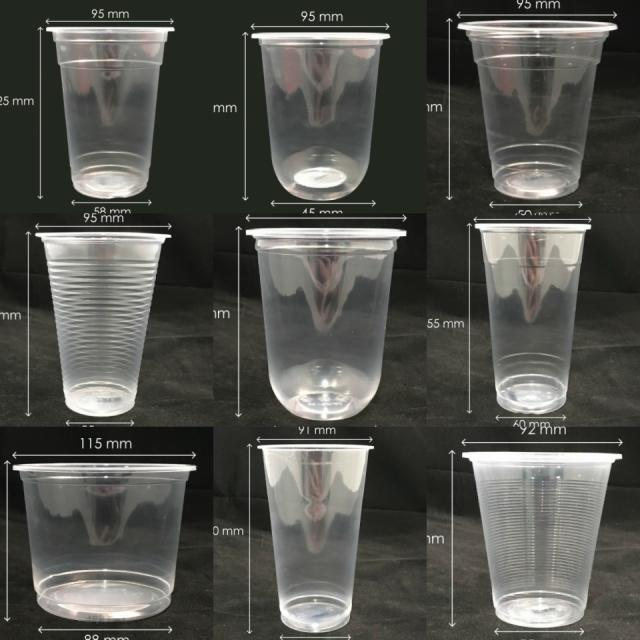Single-Use-Plastic: (246, 229, 405, 420), (15, 464, 195, 622), (458, 20, 616, 199), (462, 452, 621, 627), (36, 232, 169, 416), (252, 32, 389, 200), (476, 224, 590, 413), (48, 28, 172, 199), (260, 445, 372, 632)
